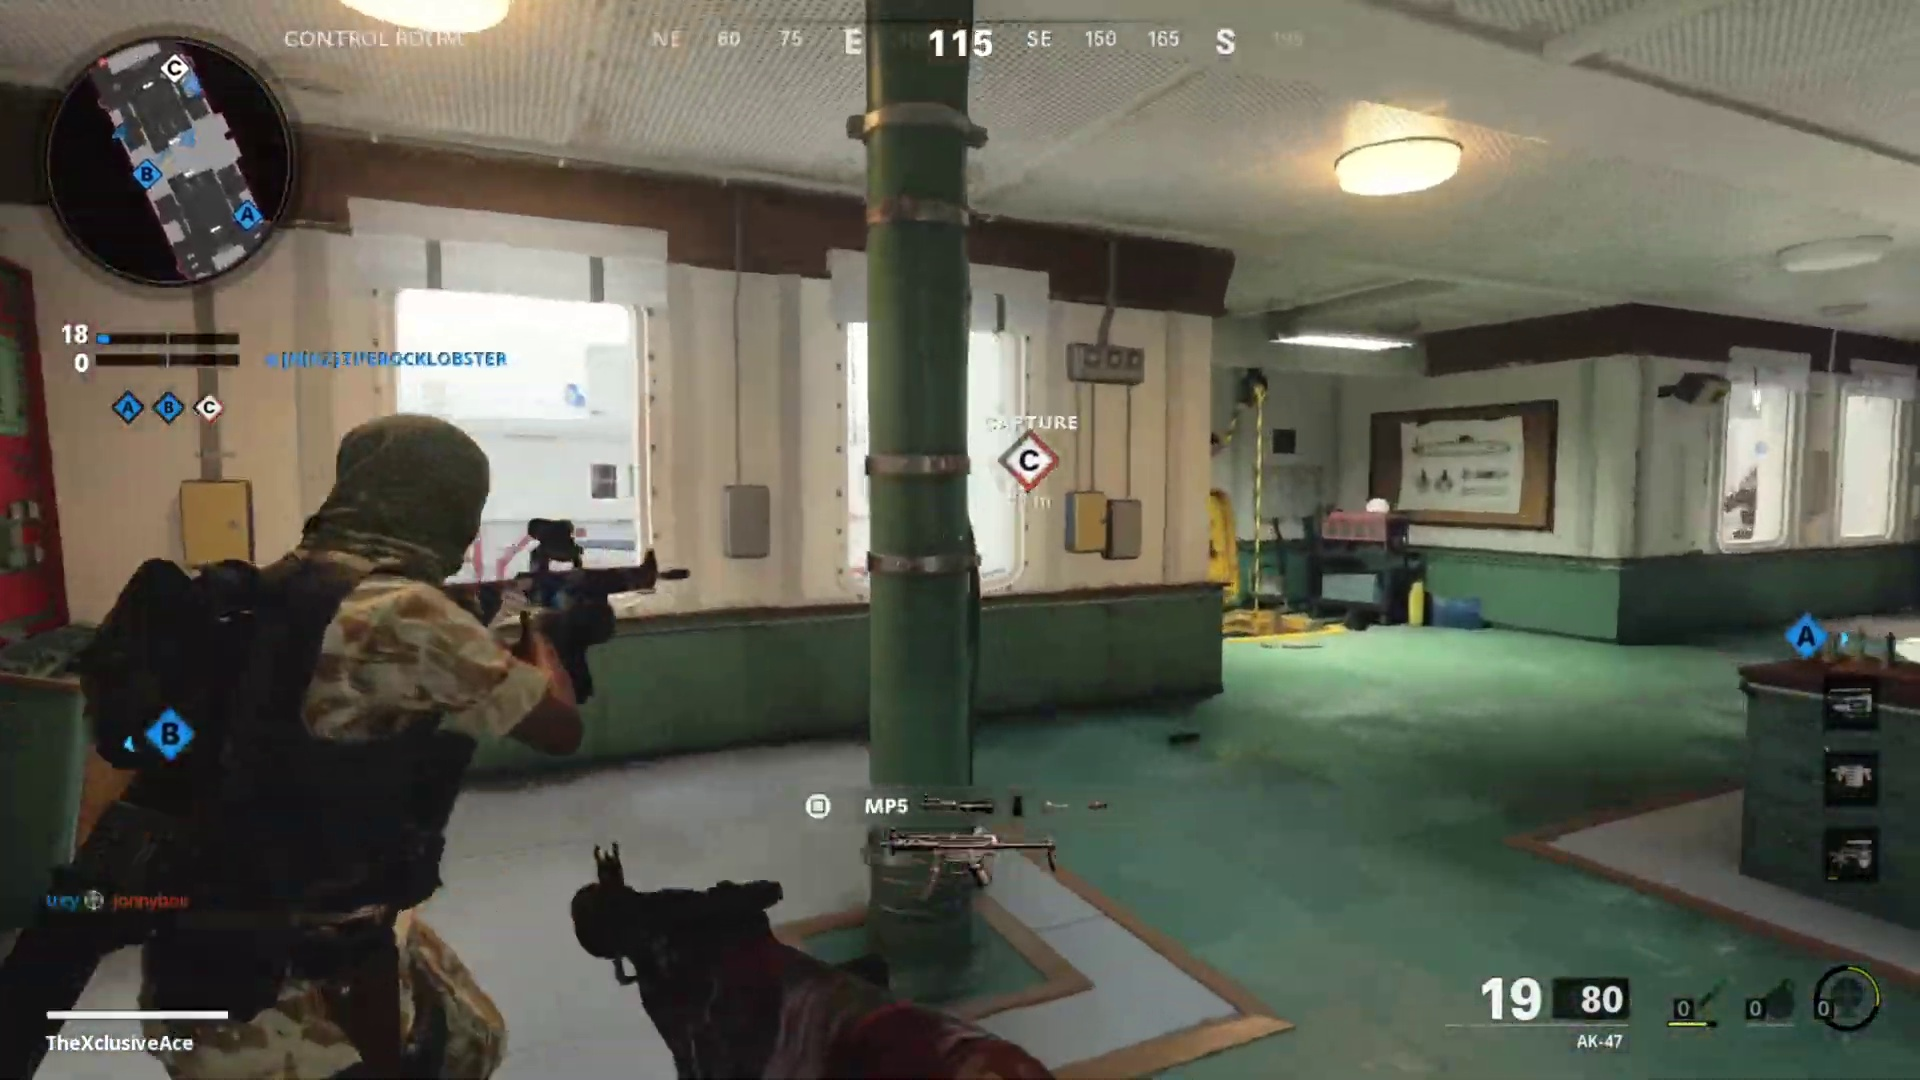head: (268, 404, 500, 602)
person: (34, 417, 618, 1067)
